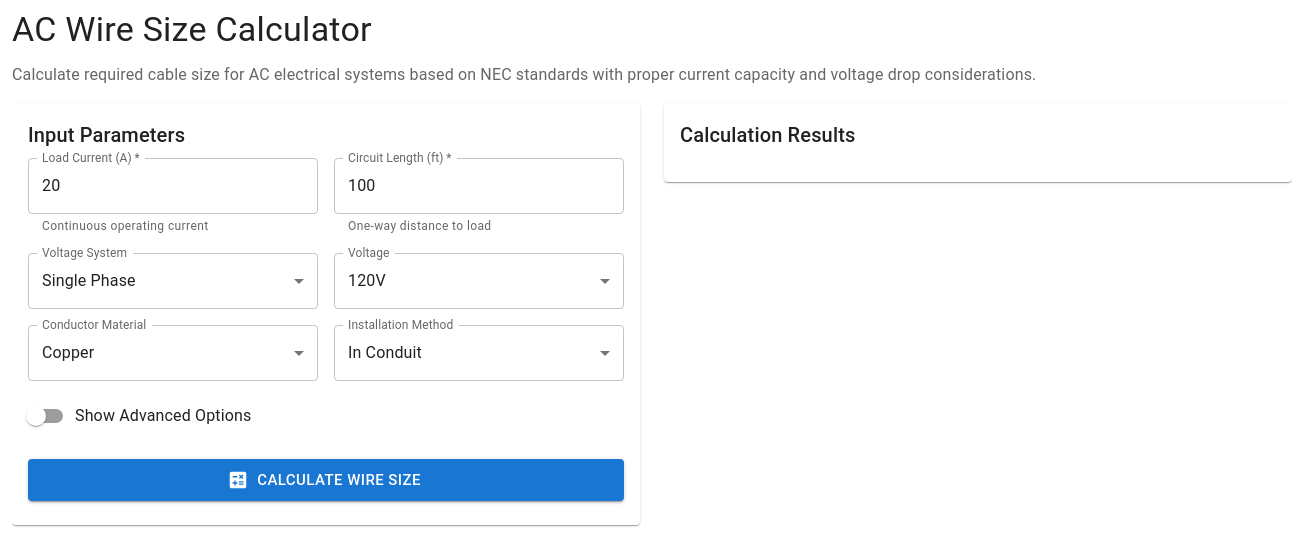
Test: Wire Calculator Input Fields › UniversalWireCalculator Input Handling › should prevent leading zeros in circuit length field
Type value with leading zeros
Replace the text in the field labelled "Circuit Length (ft) *" with "0050". click: (479, 186)
box: [334,158,624,214]
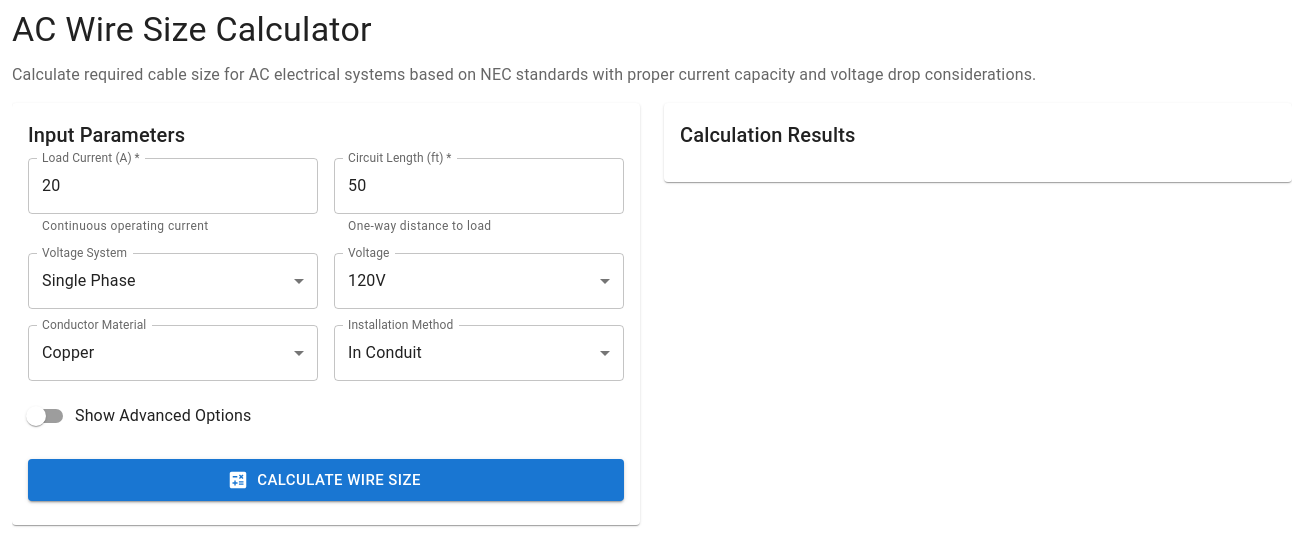
Now the field labelled "Circuit Length (ft) *" holds "50", box [334,158,624,214]
